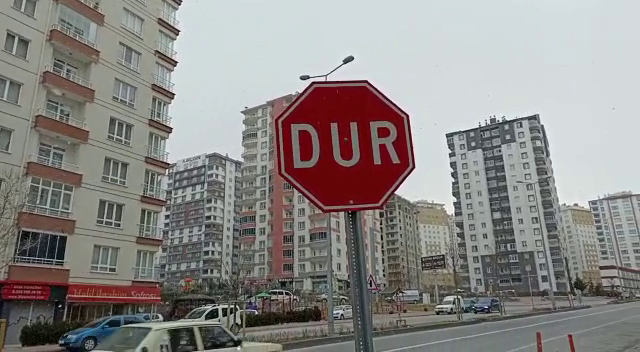stop: (271, 76, 421, 217)
